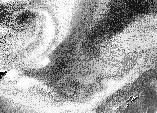CE: (5, 1, 58, 47)
